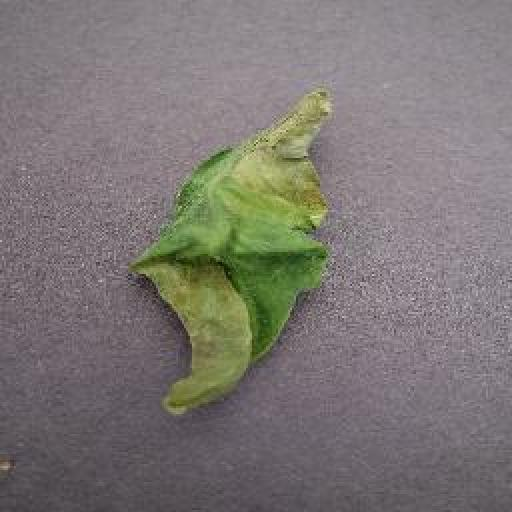Late Blight: (127, 91, 329, 417)
